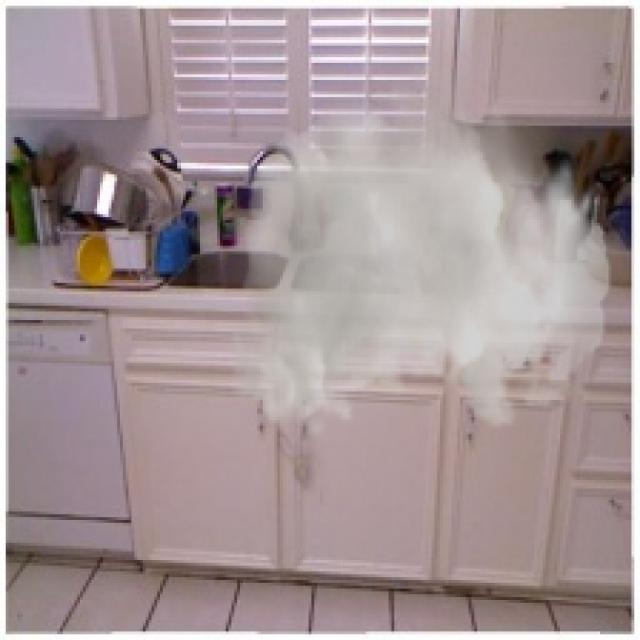smoke: (228, 51, 612, 443)
